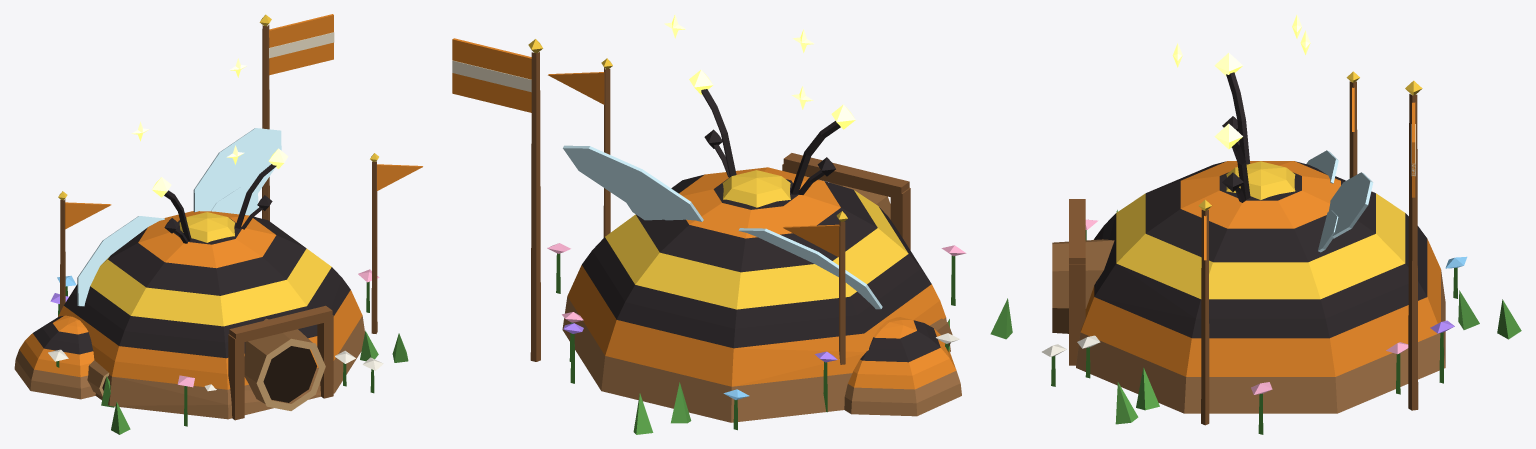
The model's file is bumblebee-burrow.glb.
3 views of the same model, side by side, from view 1: azimuth 30°, elevation 25°; view 2: azimuth 150°, elevation 25°; view 3: azimuth 270°, elevation 25° (orthographic). The views are drawn at different scales.
Visible parts, largest first — view 1: lv3, lv2; view 2: lv3, lv2; view 3: lv3, lv2.
Boxes of the visible parts, bbox=[...] form: lv3: bbox=[14, 14, 422, 434]; lv2: bbox=[50, 187, 378, 407]; lv3: bbox=[452, 14, 1012, 434]; lv2: bbox=[562, 129, 949, 423]; lv3: bbox=[1042, 14, 1521, 434]; lv2: bbox=[1077, 71, 1479, 410].
Size of the model in its own units: 1.89 by 1.34 by 1.73.
